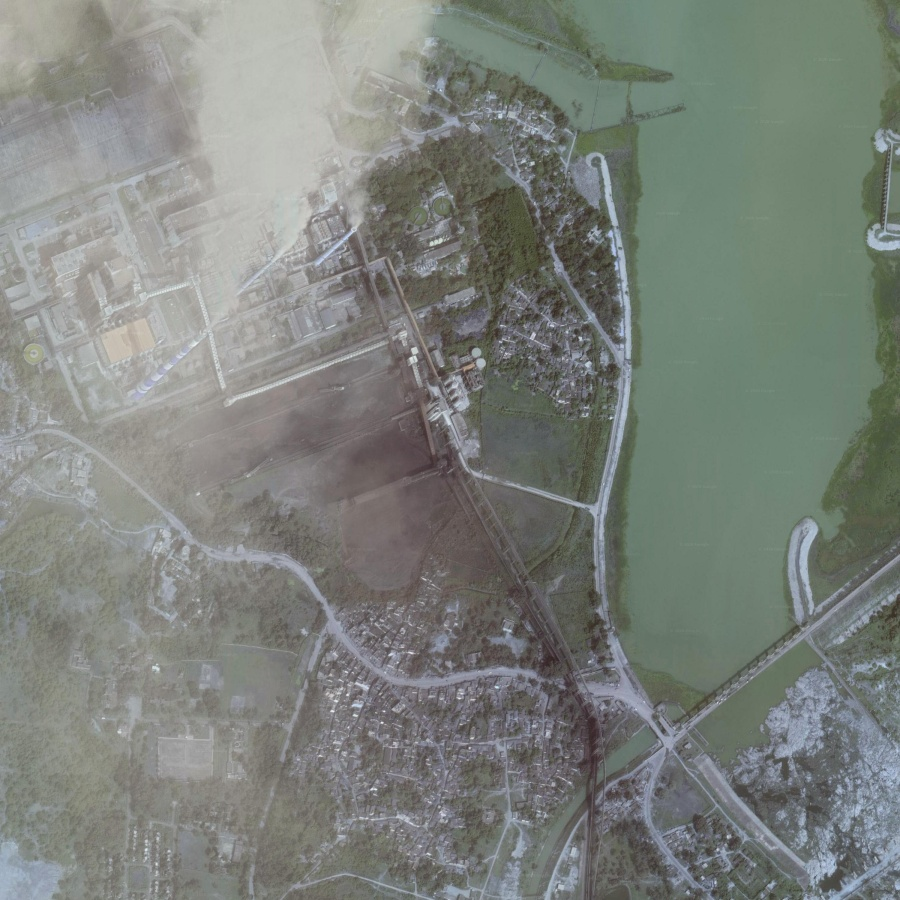PowerPlant: (94, 149, 384, 430)
